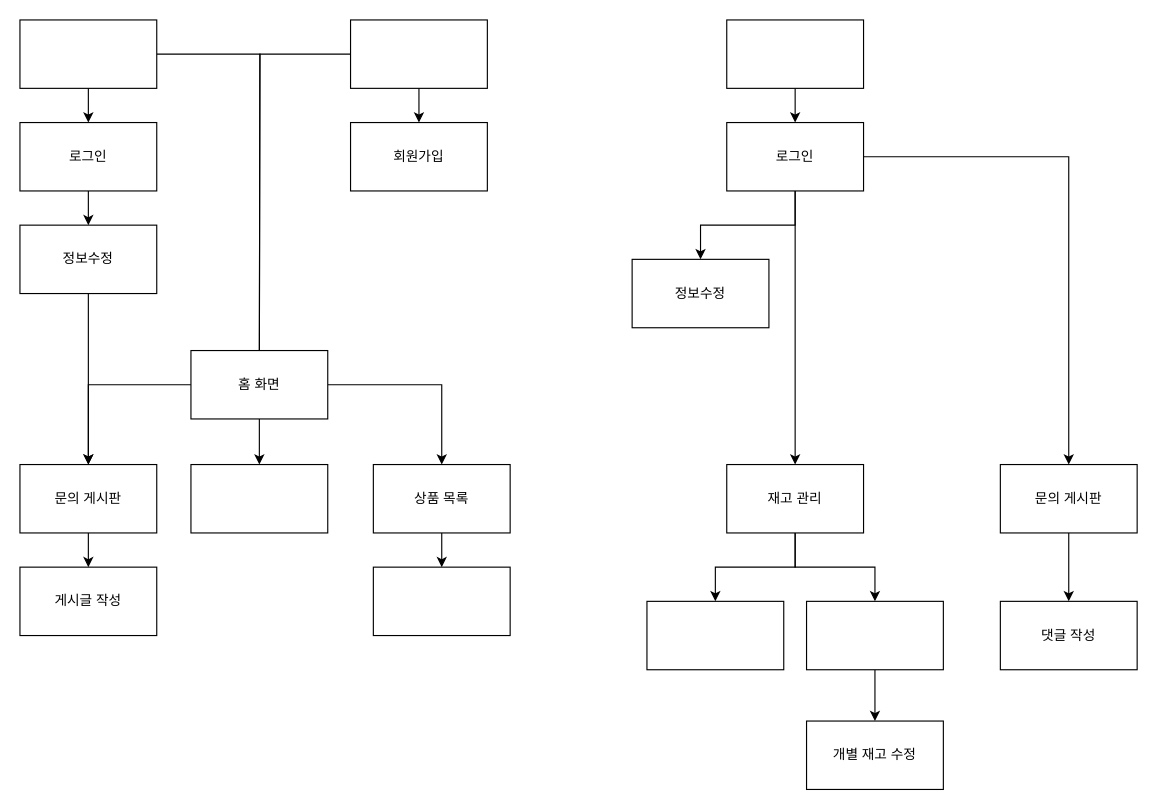
The diagram is 1157 pixels wide and 809 high, and some of its shapes have lost their labels. Each missing label, with the centre of its shape:
"매장 관리자" belongs at [795,53].
"매장 목록" belongs at [259,498].
"비회원" belongs at [418,53].
"상품 검색" belongs at [441,601].
"재고 검색" belongs at [715,635].
"전체 재고 수정" belongs at [874,635].
"회원" belongs at [88,53].
